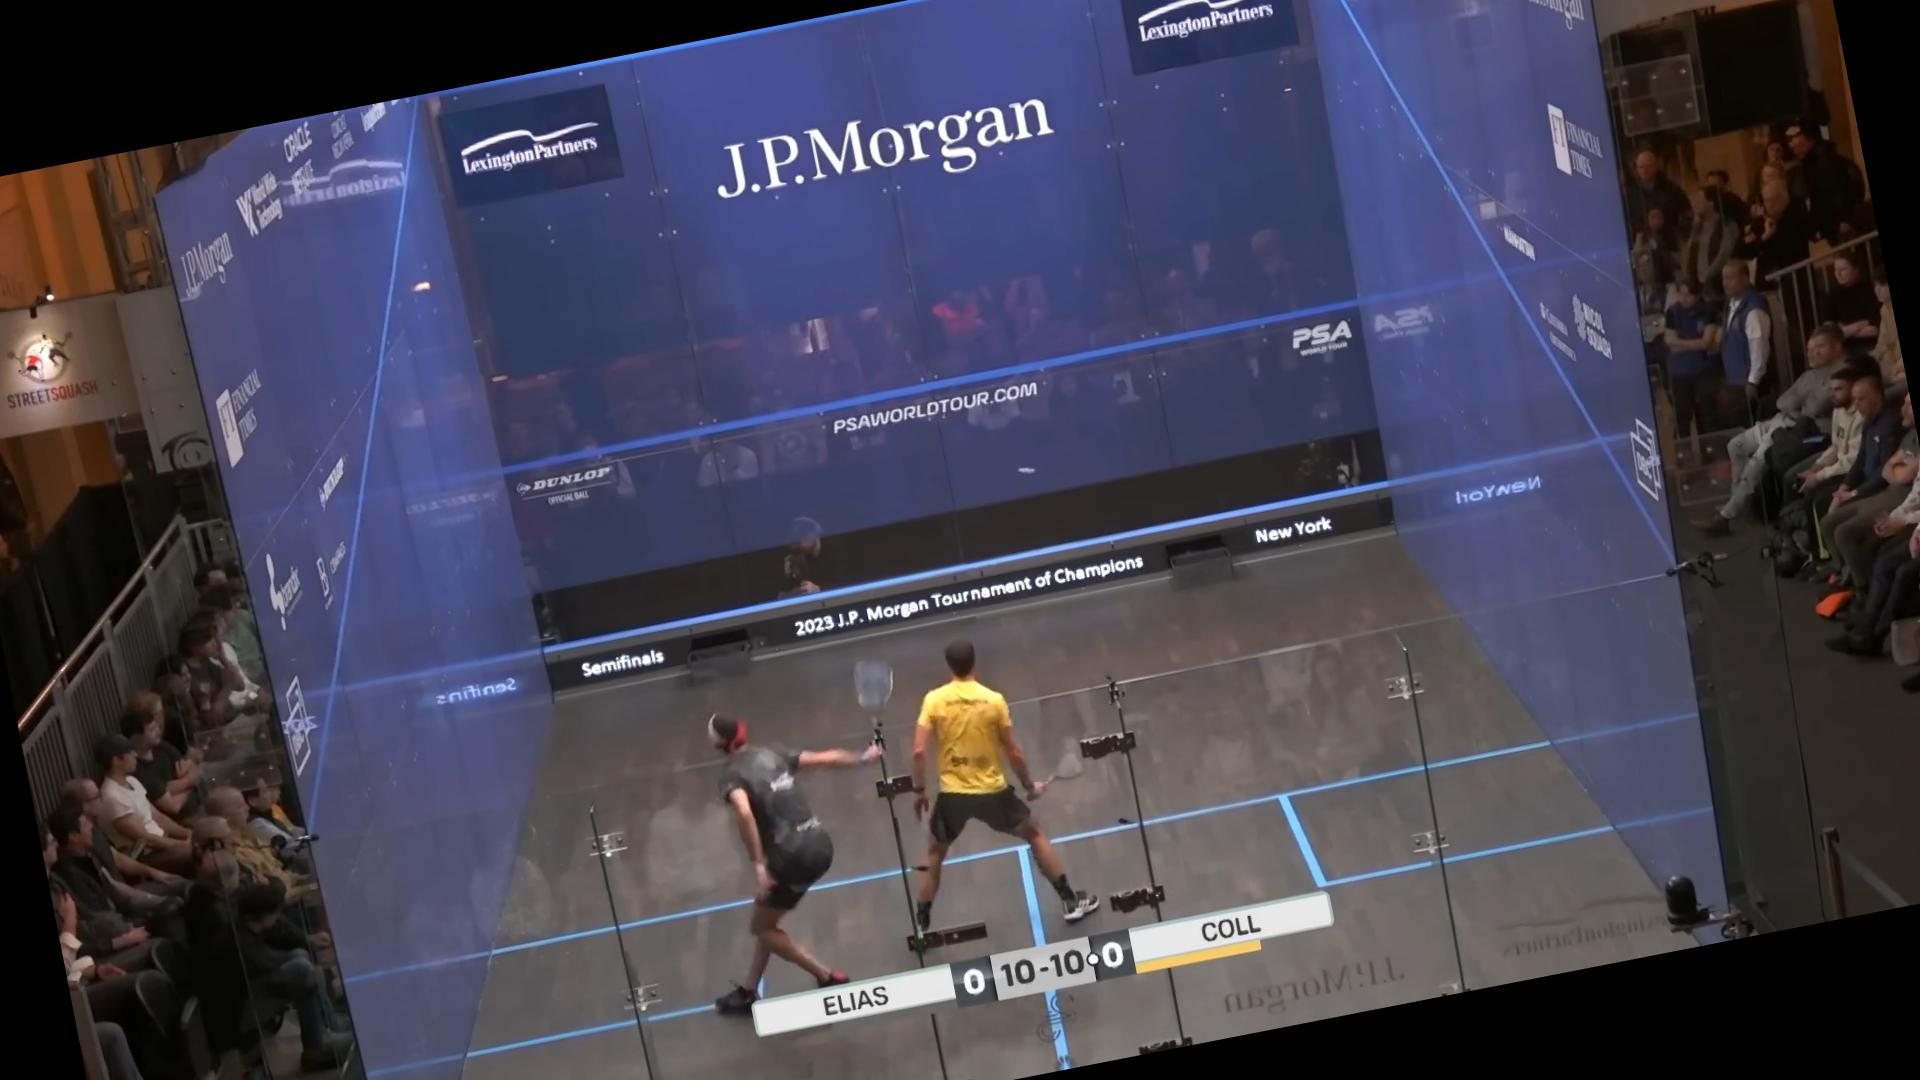Racket: (839, 636, 910, 756), (1030, 741, 1098, 806)
